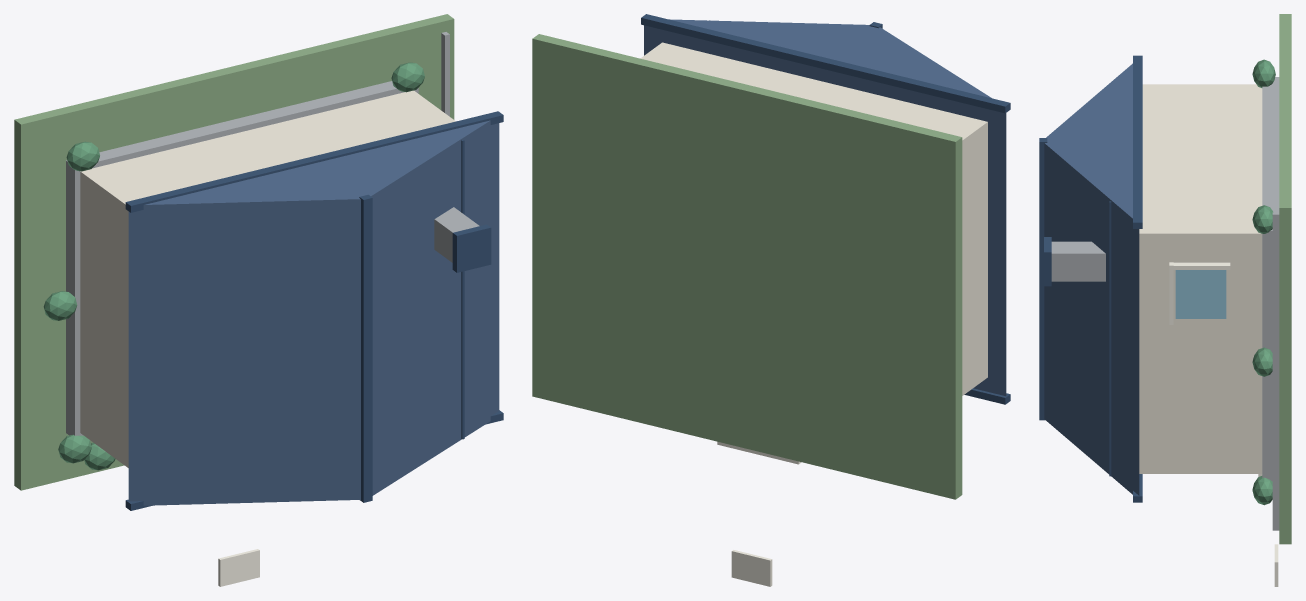
File: starter_house_l1.glb
The picture shows the model from 3 angles, left to right: view 1: azimuth 30°, elevation 25°; view 2: azimuth 150°, elevation 25°; view 3: azimuth 270°, elevation 25°; orthographic projection. The views are drawn at different scales.
Visible parts, largest first — view 1: Pitched navy roof, Plot plinth, Main house walls, House foundation, Roof ridge cap, Back roof fascia, Chimney cap, Path paver, Chimney, Roof seam, Low poly shrub_4, Low poly shrub_7 (+3 smaller); view 2: Plot plinth, Pitched navy roof, Main house walls, Back roof fascia, Path paver; view 3: Main house walls, Pitched navy roof, Plot plinth, House foundation, Garden border, Side window glass, Chimney, Back roof fascia, Roof ridge cap, Roof seam, Low poly shrub_6, Low poly shrub_5 (+4 smaller).
Boxes of the visible parts, x1,y1,x2,y2 form: Pitched navy roof: [128, 120, 499, 505]; Plot plinth: [14, 14, 454, 490]; Main house walls: [80, 90, 455, 467]; House foundation: [66, 81, 418, 435]; Roof ridge cap: [359, 194, 372, 502]; Back roof fascia: [125, 111, 503, 212]; Chimney cap: [452, 224, 491, 272]; Path paver: [218, 549, 259, 586]; Chimney: [434, 207, 479, 262]; Roof seam: [461, 139, 464, 439]; Low poly shrub_4: [43, 291, 77, 320]; Low poly shrub_7: [391, 62, 424, 92]; Plot plinth: [532, 34, 962, 499]; Pitched navy roof: [644, 19, 1006, 396]; Main house walls: [640, 42, 987, 395]; Back roof fascia: [641, 14, 1010, 113]; Path paver: [731, 550, 772, 586]; Main house walls: [1139, 84, 1262, 473]; Pitched navy roof: [1044, 63, 1139, 495]; Plot plinth: [1279, 14, 1291, 544]; House foundation: [1262, 77, 1279, 481]; Garden border: [1272, 212, 1279, 530]; Side window glass: [1175, 270, 1226, 318]; Chimney: [1051, 241, 1105, 281]; Back roof fascia: [1133, 55, 1142, 228]; Roof ridge cap: [1039, 138, 1047, 420]; Roof seam: [1109, 201, 1111, 476]; Low poly shrub_6: [1252, 59, 1275, 87]; Low poly shrub_5: [1252, 347, 1272, 376].
Bounding box in the file's own units: 10.4 × 11.67 × 5.71.
